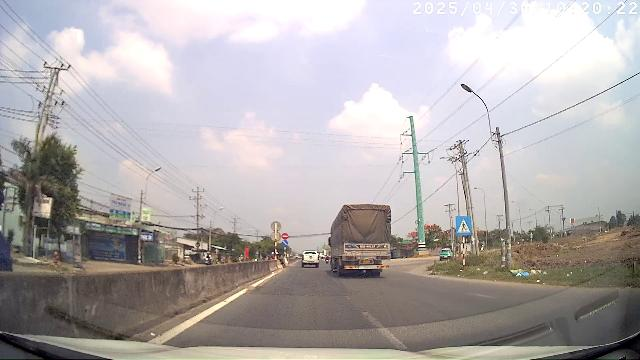102-cam-di-nguoc-chieu: (281, 232, 289, 239)
302a-huong-phai-di-vong-chuong-ngai-vat-1: (281, 240, 288, 246)
423a-duong-nguoi-di-bo-sang-ngang-1: (456, 216, 472, 235)
